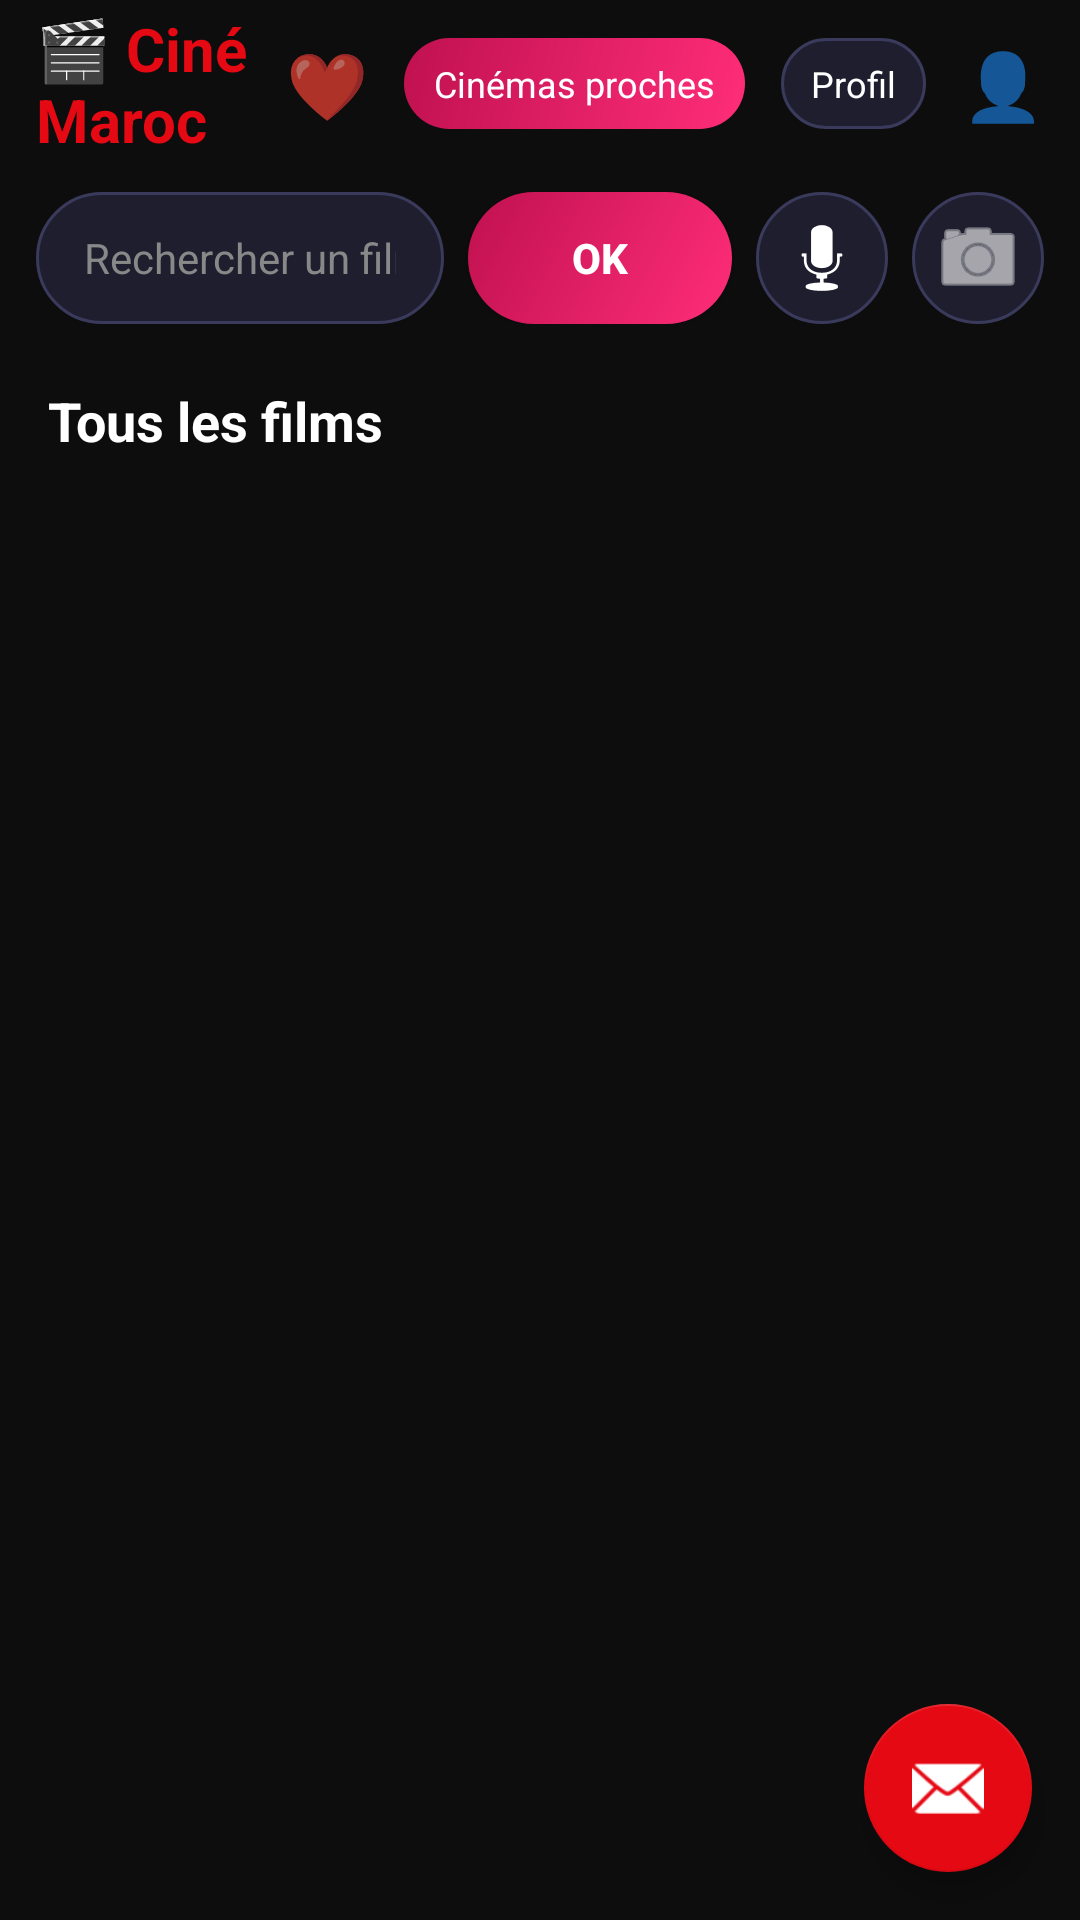

Icon click points for this 1080px×1920px phone screenshot, format point (x, y):
Recherche par camera: point (978, 258)
Recherche vocale: point (822, 258)
